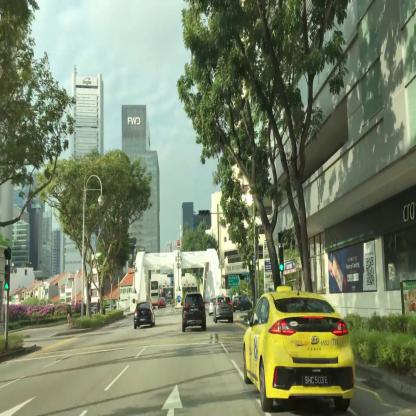green_traffic_light: (279, 248, 284, 270)
